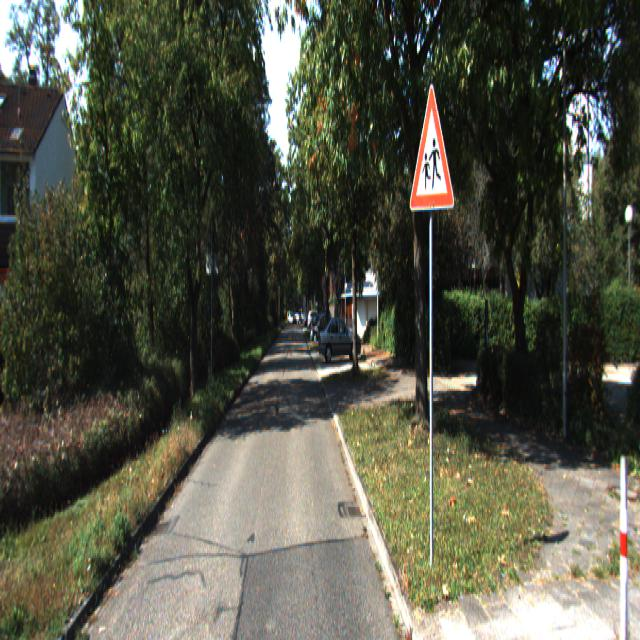Car: (318, 313, 362, 363)
